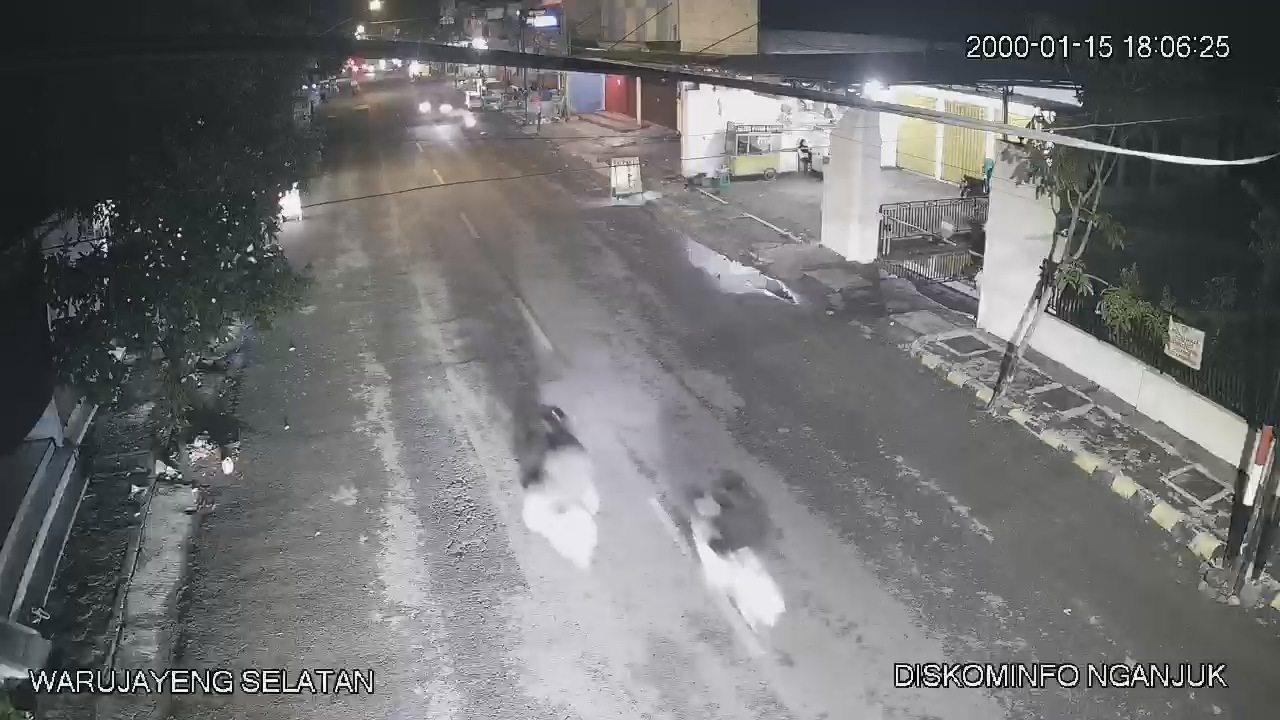Gerobak: (721, 118, 785, 181)
